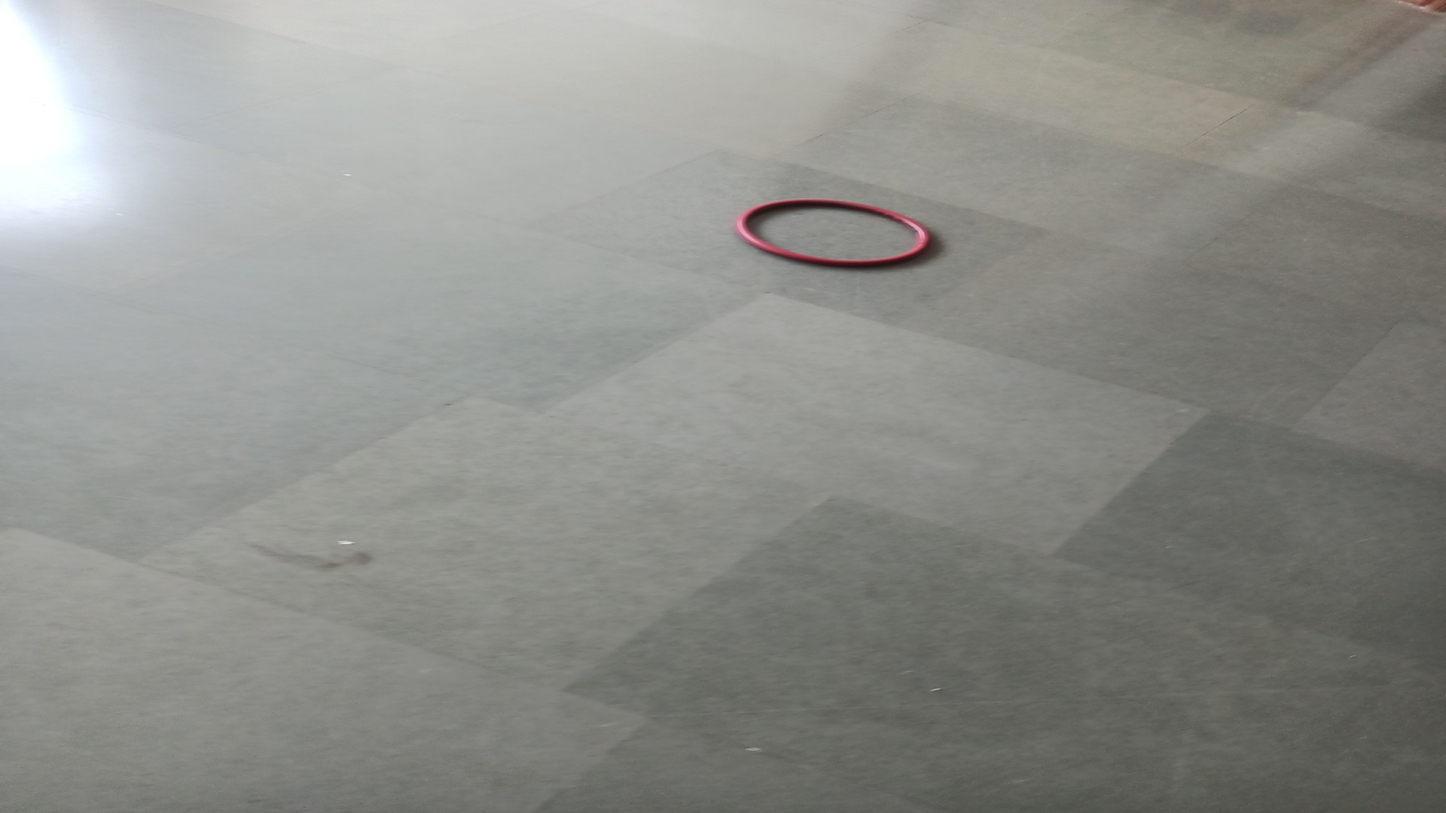Red ring: (737, 193, 932, 267)
